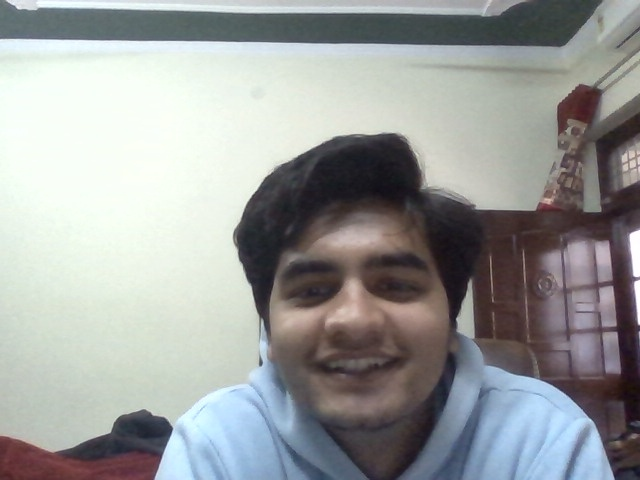joy: (274, 243, 438, 409)
